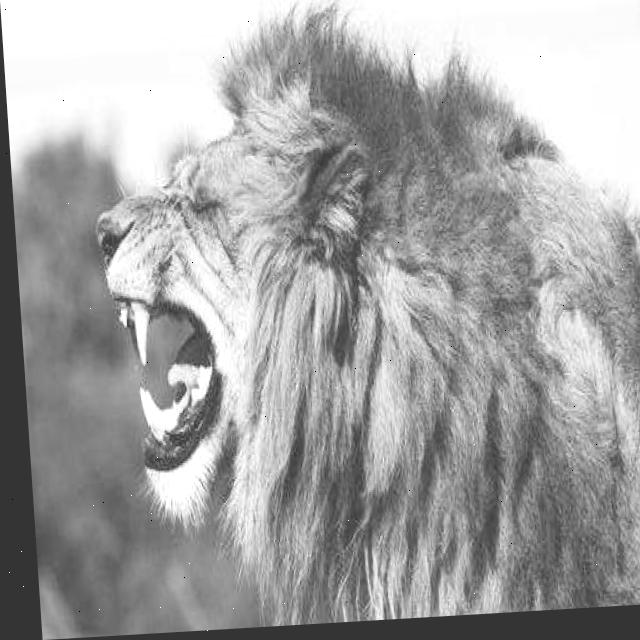Lion: (58, 28, 519, 535)
